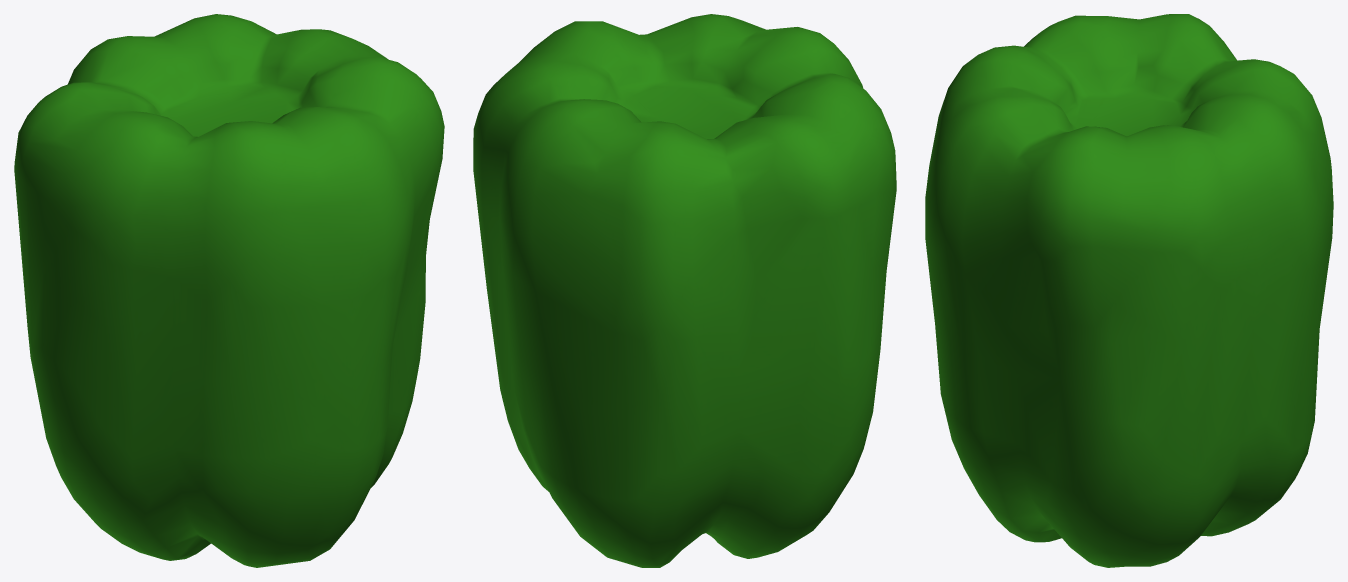
Rendered from pepper_small.vtk.obj.
3 views of the same model, side by side, from view 1: azimuth 30°, elevation 25°; view 2: azimuth 150°, elevation 25°; view 3: azimuth 270°, elevation 25° (orthographic).
Parts seen in each view (by area): view 1: pepper.1; view 2: pepper.1; view 3: pepper.1.
Boxes of the visible parts, x1,y1,x2,y2 form: pepper.1: [14, 14, 444, 567]; pepper.1: [473, 14, 896, 567]; pepper.1: [925, 14, 1333, 567].
Bounding box in the file's own units: 9.51 × 11.3 × 9.07.
Materials: 1 (1 with a texture image).
